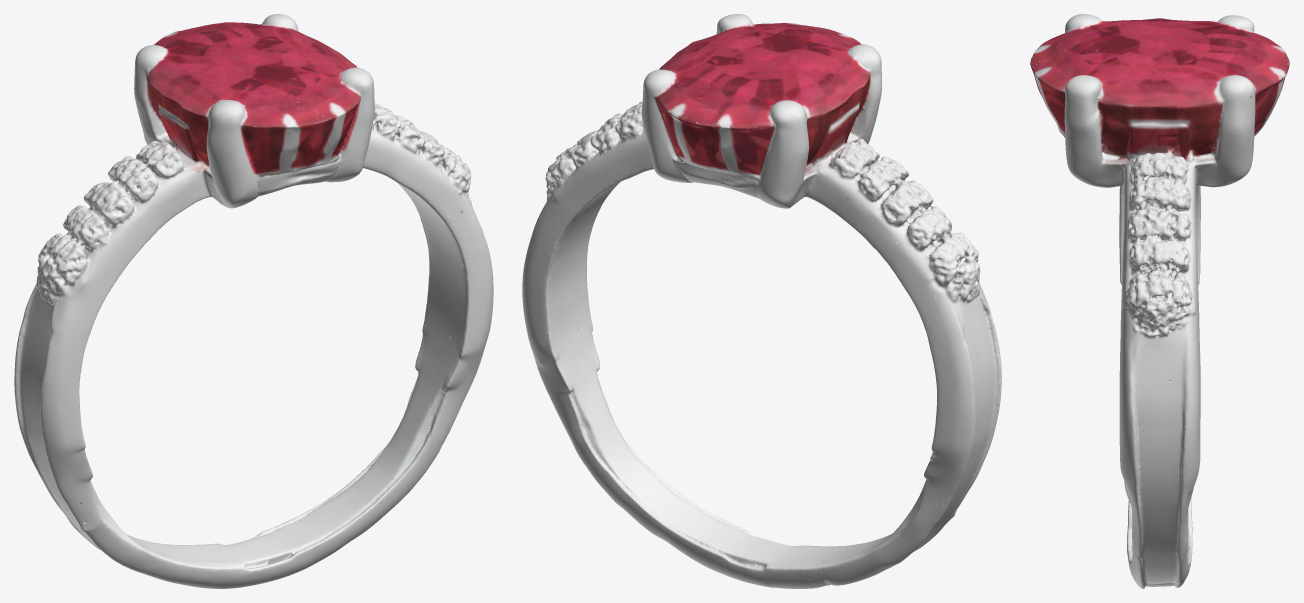
The model's file is round.glb.
The picture shows the model from 3 angles, left to right: view 1: azimuth 30°, elevation 25°; view 2: azimuth 150°, elevation 25°; view 3: azimuth 270°, elevation 25°; orthographic projection.
Visible parts, largest first — view 1: Mesh_0.002; view 2: Mesh_0.002; view 3: Mesh_0.002.
Boxes of the visible parts, box(x1,y1,x2,y2) form: Mesh_0.002: box(14, 14, 493, 588); Mesh_0.002: box(522, 14, 1001, 588); Mesh_0.002: box(1030, 14, 1289, 588).
Size of the model in its own units: 1.83 by 2 by 0.9053.
Materials: 1 (1 with a texture image).
